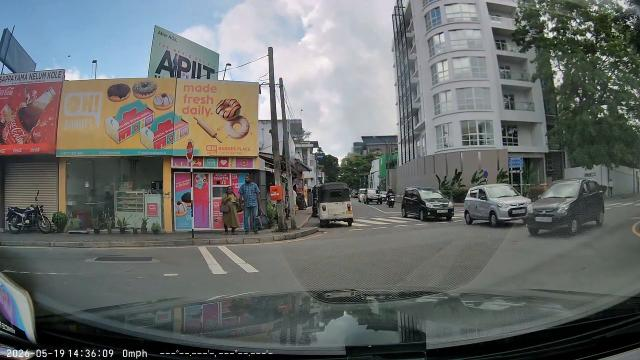illegal parking: (316, 183, 361, 230)
